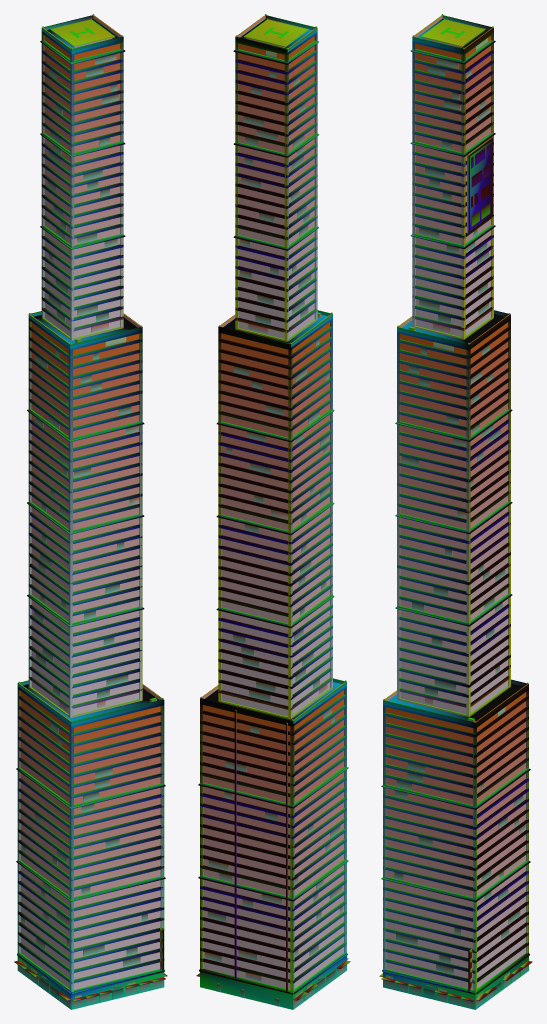
Rendered from Tower_Spire_V9.fbx.
3 renders of one model, left to right at view 1: azimuth 30°, elevation 25°; view 2: azimuth 150°, elevation 25°; view 3: azimuth 330°, elevation 25°, orthographic.
Parts seen in each view (by area): view 1: Tower_Spire_V9_LOD0; view 2: Tower_Spire_V9_LOD0; view 3: Tower_Spire_V9_LOD0.
Part boxes in pixels (<box>): Tower_Spire_V9_LOD0: <box>14,14,167,1009</box>; Tower_Spire_V9_LOD0: <box>196,14,350,1009</box>; Tower_Spire_V9_LOD0: <box>379,14,532,1009</box>.
Size of what is drawn, in the model's own units: 36.8 by 332 by 36.31.
